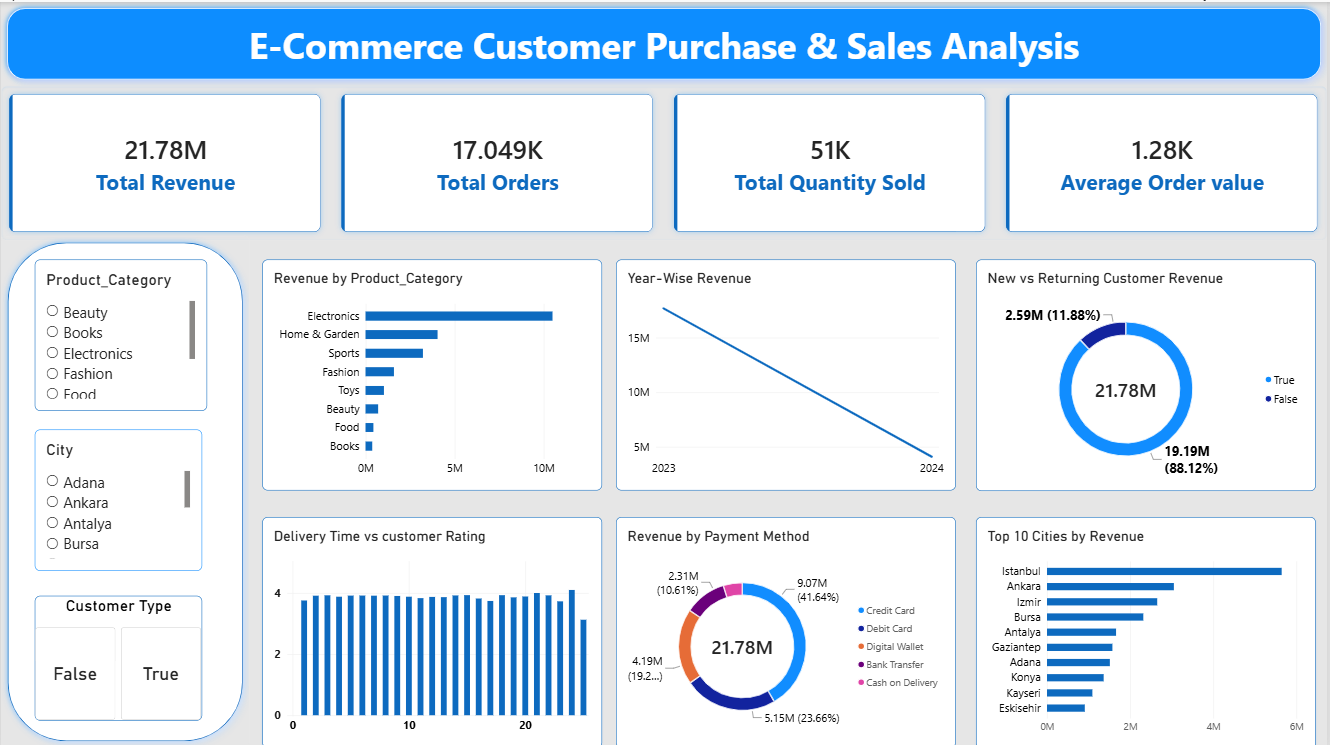

The dashboard page shown, as its layout file describes it:
{"tool":"powerbi","page":{"name":"Page 1","canvas":[1920,1080],"ordinal":0},"visuals":[{"type":"shape","box":[0,0,1920.1,121.2],"z":0},{"type":"barChart","title":"Revenue by Product_Category","fields":{"Category":["ecommerce_customer_behavior_dataset_v2.Product_Category"],"Y":["Sum(ecommerce_customer_behavior_dataset_v2.Total_Amount)"]},"box":[378.2,372.8,492.2,334.8],"z":1000},{"type":"cardVisual","fields":{"Data":["Sum(ecommerce_customer_behavior_dataset_v2.Total_Amount)","Count(ecommerce_customer_behavior_dataset_v2.Order_ID)","Sum(ecommerce_customer_behavior_dataset_v2.Quantity)","Avg(ecommerce_customer_behavior_dataset_v2.Total_Amount)"]},"box":[0,121.2,1920.1,224.4],"z":2000},{"type":"lineChart","title":"Year-Wise Revenue","fields":{"Category":["ecommerce_customer_behavior_dataset_v2.Date.Variation.Date Hierarchy.Year"],"Y":["Sum(ecommerce_customer_behavior_dataset_v2.Total_Amount)"]},"box":[890.4,372.8,492.2,334.8],"z":3000},{"type":"donutChart","title":"New vs Returning Customer Revenue","fields":{"Category":["ecommerce_customer_behavior_dataset_v2.Is_Returning_Customer"],"Y":["Sum(ecommerce_customer_behavior_dataset_v2.Total_Amount)"]},"box":[1411.5,372.8,492,335],"z":4000},{"type":"barChart","title":"Top 10 Cities by Revenue","fields":{"Category":["ecommerce_customer_behavior_dataset_v2.City"],"Y":["Sum(ecommerce_customer_behavior_dataset_v2.Total_Amount)"]},"box":[1411.5,745.6,492,335],"z":5000},{"type":"donutChart","title":"Revenue by Payment Method","fields":{"Category":["ecommerce_customer_behavior_dataset_v2.Payment_Method"],"Y":["Sum(ecommerce_customer_behavior_dataset_v2.Total_Amount)"]},"box":[890.4,745.6,492.2,334.8],"z":6000},{"type":"clusteredColumnChart","title":"Delivery Time vs customer Rating","fields":{"Category":["ecommerce_customer_behavior_dataset_v2.Delivery_Time_Days"],"Y":["Avg(ecommerce_customer_behavior_dataset_v2.Customer_Rating)"]},"box":[378.2,745.6,492.2,334.8],"z":7000},{"type":"shape","box":[0,338.4,360.1,742],"z":8000},{"type":"listSlicer","fields":{"Values":["ecommerce_customer_behavior_dataset_v2.Product_Category"]},"box":[48.9,372.8,249.7,219],"z":9000},{"type":"listSlicer","fields":{"Values":["ecommerce_customer_behavior_dataset_v2.City"]},"box":[48.9,618.9,242.5,204.5],"z":10000},{"type":"advancedSlicerVisual","title":"  Customer Type","fields":{"Values":["ecommerce_customer_behavior_dataset_v2.Is_Returning_Customer"]},"box":[48.9,859.6,242.5,181],"z":11000}]}

Visuals, with their boxes in screenshot pixels (x1, y1, x2, y2), scaled from the page's 1920x1080 canvas onto the 1330x745 screenshot:
shape: rect(0, 0, 1329, 84)
"Revenue by Product_Category" barChart: rect(262, 257, 603, 488)
cardVisual - Sum(ecommerce_customer_behavior_dataset_v2.Total_Amount) x Count(ecommerce_customer_behavior_dataset_v2.Order_ID): rect(0, 84, 1329, 238)
"Year-Wise Revenue" lineChart: rect(617, 257, 958, 488)
"New vs Returning Customer Revenue" donutChart: rect(978, 257, 1319, 488)
"Top 10 Cities by Revenue" barChart: rect(978, 514, 1319, 744)
"Revenue by Payment Method" donutChart: rect(617, 514, 958, 744)
"Delivery Time vs customer Rating" clusteredColumnChart: rect(262, 514, 603, 744)
shape: rect(0, 233, 249, 744)
listSlicer - ecommerce_customer_behavior_dataset_v2.Product_Category: rect(34, 257, 207, 408)
listSlicer - ecommerce_customer_behavior_dataset_v2.City: rect(34, 427, 202, 568)
"  Customer Type" advancedSlicerVisual: rect(34, 593, 202, 718)
